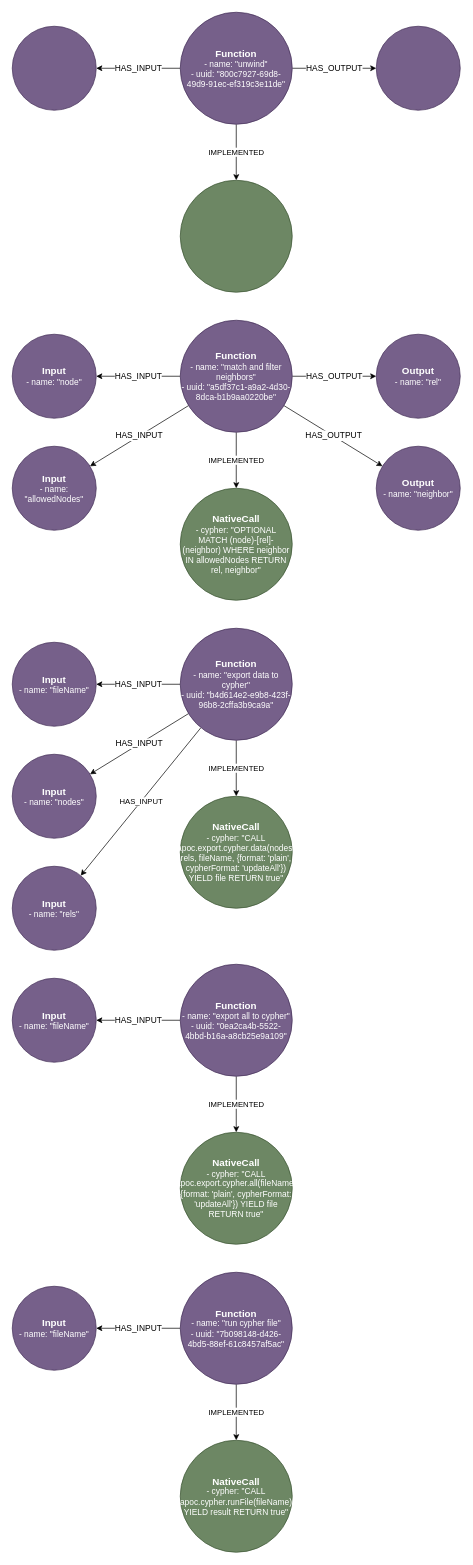
Image size: 473x1565. Some labels were removed from this diagram. Here are the shapes that lost their labels. From the top down, the box of each, then its label:
(12, 26, 96, 110): Input - name: "collection"
(376, 26, 460, 110): Output - name: "element"
(180, 180, 292, 292): NativeCall - cypher: "UNWIND collection AS element RETURN element"
